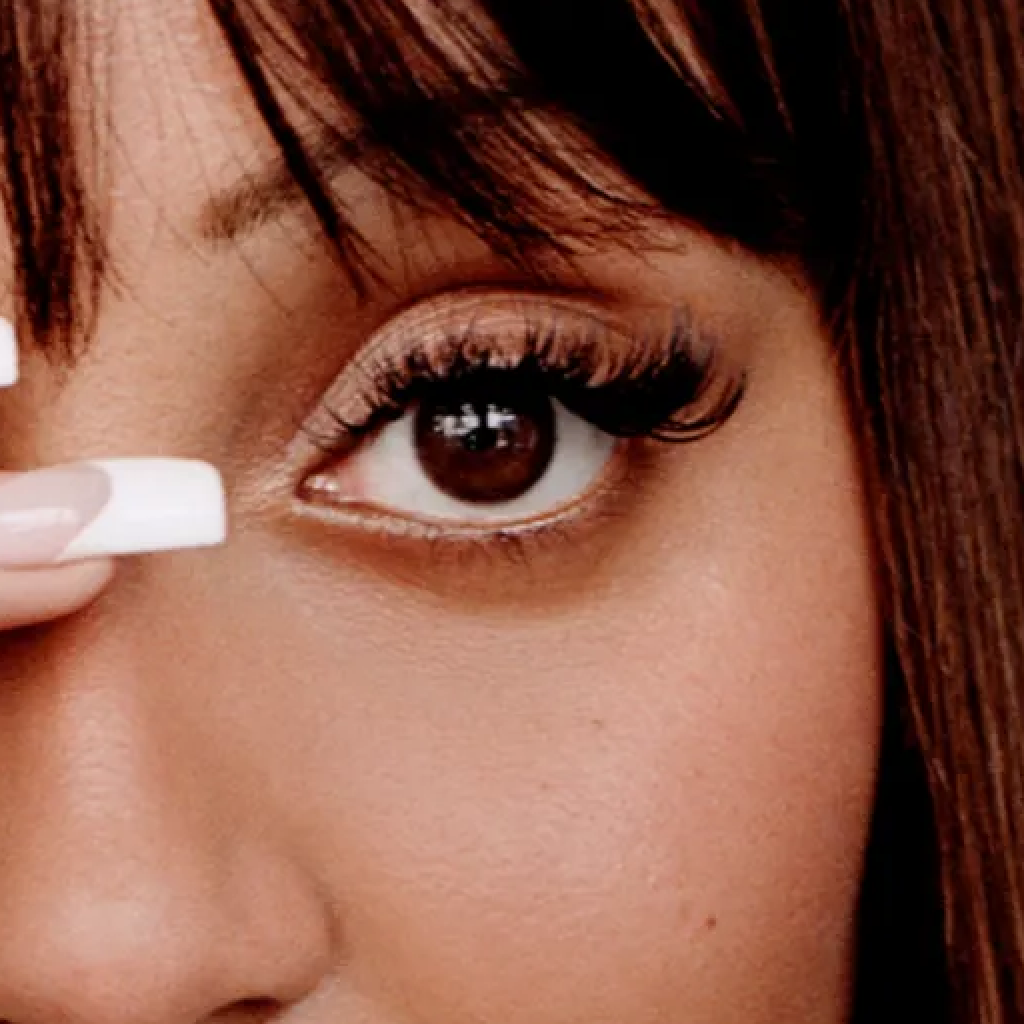iris: (416, 372, 556, 502)
pupil: (454, 391, 508, 447)
sclera: (344, 403, 611, 521)
